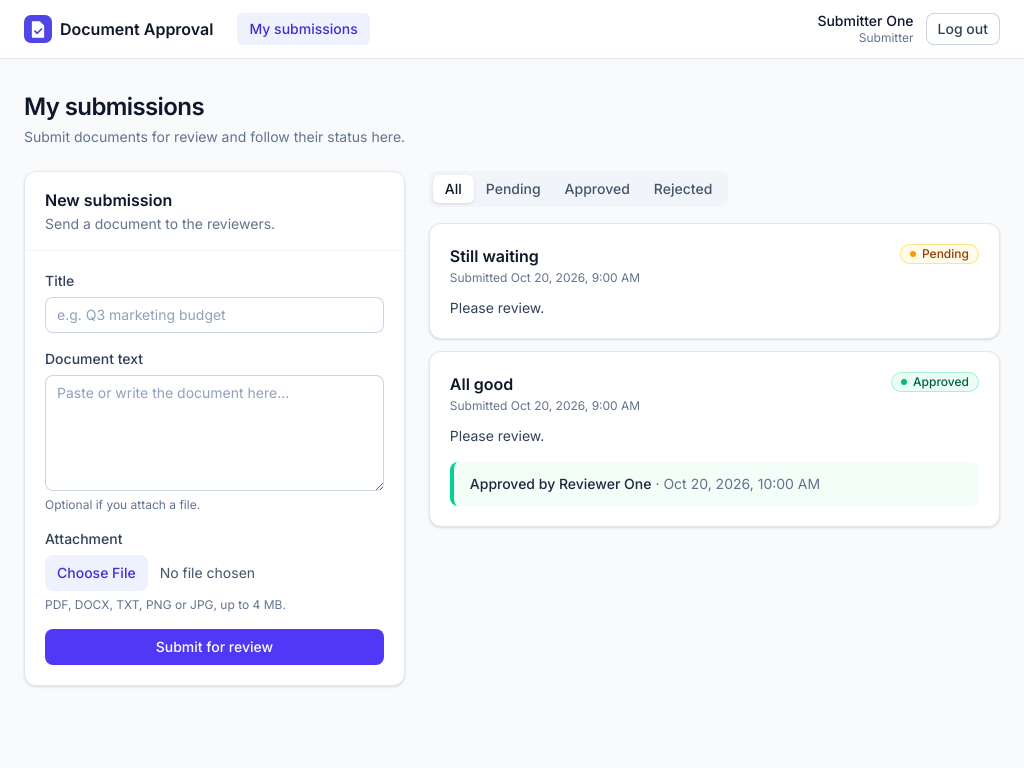
MySubmissionsPage – tracking status › filters by status
Expected: the heading "Still waiting" is shown, x1=450 y1=246 x2=539 y2=266
Click the button "Approved".
click(597, 188)  # box x1=553 y1=174 x2=642 y2=202
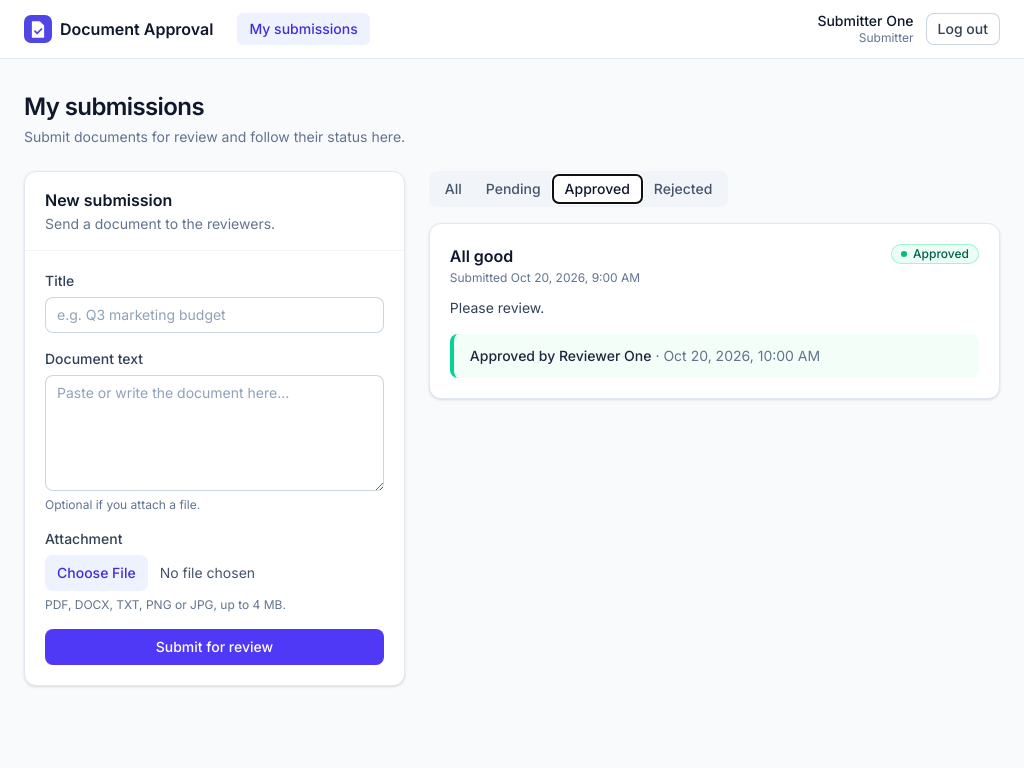
Expected: the heading "All good" is shown, x1=450 y1=246 x2=513 y2=266
Expected: the heading "Still waiting" is gone
